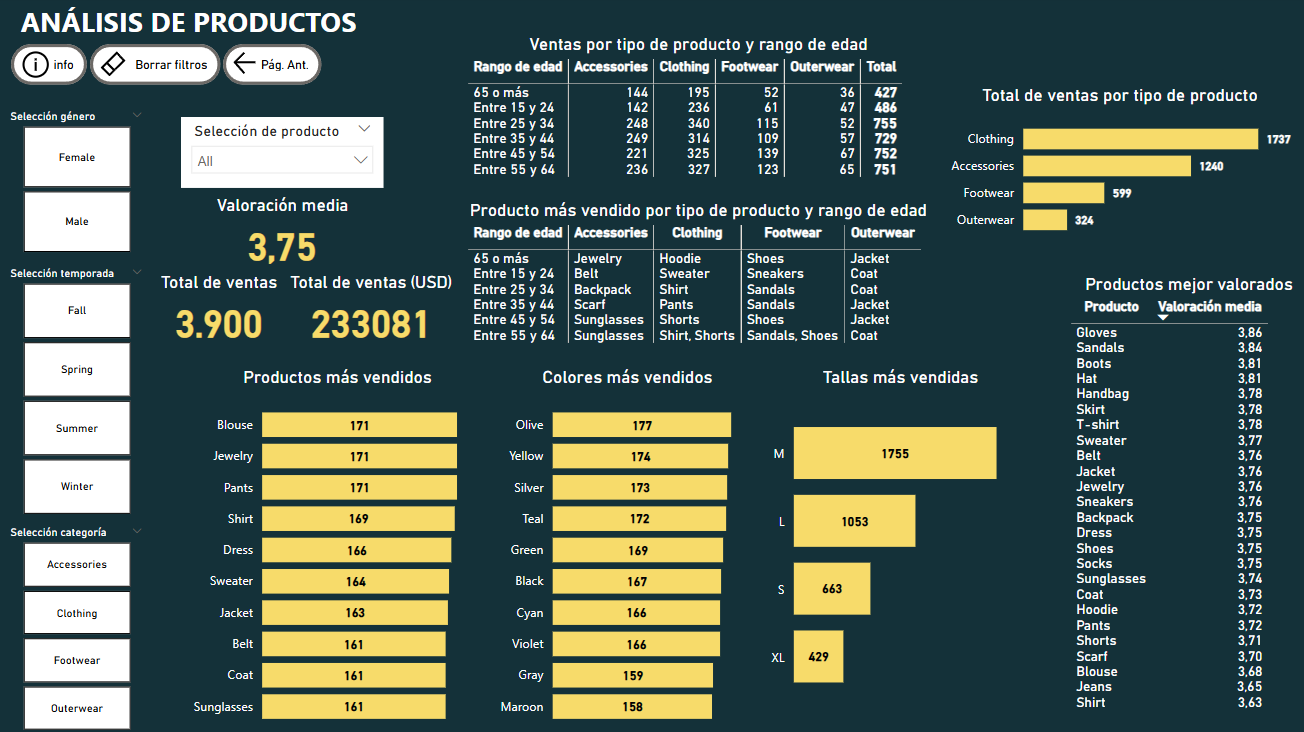

Layout of this report page (visuals, bound fields, positions):
{"tool":"powerbi","page":{"name":"Análisis de Productos","canvas":[1280,720],"ordinal":2},"visuals":[{"type":"slicer","fields":{"Values":["shopping_behavior_updated.Season"]},"box":[0,257.8,153.7,251.9],"z":0},{"type":"card","title":"Total de ventas (USD)","fields":{"Values":["Sum(shopping_behavior_updated.Purchase Amount (USD))"]},"box":[274.3,267.5,179,74.9],"z":1000},{"type":"card","title":"Total de ventas","fields":{"Values":["CountNonNull(shopping_behavior_updated.Customer ID)"]},"box":[153.7,267.5,124.5,74.9],"z":2000},{"type":"slicer","fields":{"Values":["shopping_behavior_updated.Category"]},"box":[0,509.7,153.7,210.1],"z":3000},{"type":"slicer","fields":{"Values":["shopping_behavior_updated.Gender"]},"box":[0,105,153.7,149.8],"z":4000},{"type":"barChart","title":"Total de ventas por tipo de producto","fields":{"Category":["shopping_behavior_updated.Category"],"Y":["CountNonNull(shopping_behavior_updated.Customer ID)"]},"box":[918.2,85.6,348.2,157.6],"z":5000},{"type":"textbox","box":[13.5,0,345.5,45.8],"z":6000},{"type":"actionButton","box":[13.5,45.8,73.9,39.5],"z":7000},{"type":"actionButton","box":[90.5,45.8,127,39.5],"z":8000},{"type":"actionButton","box":[219.6,45.8,95.7,39.5],"z":9000},{"type":"clusteredBarChart","title":"Productos más vendidos","fields":{"Category":["shopping_behavior_updated.Item Purchased"],"Y":["CountNonNull(shopping_behavior_updated.Customer ID)"]},"box":[181.9,359.9,298.6,359.9],"z":10000},{"type":"clusteredBarChart","title":"Tallas más vendidas","fields":{"Category":["shopping_behavior_updated.Size"],"Y":["CountNonNull(shopping_behavior_updated.Customer ID)"]},"box":[746,359.9,265.5,340.4],"z":11000},{"type":"clusteredBarChart","title":"Colores más vendidos","fields":{"Y":["CountNonNull(shopping_behavior_updated.Customer ID)"],"Category":["shopping_behavior_updated.Color"]},"box":[480.5,359.9,265.5,359.9],"z":12000},{"type":"slicer","fields":{"Values":["shopping_behavior_updated.Item Purchased"]},"box":[179,116.7,197.4,69.1],"z":13000},{"type":"tableEx","title":"Productos mejor valorados","fields":{"Values":["shopping_behavior_updated.Item Purchased","shopping_behavior_updated.Review Rating Medio"]},"box":[1038.8,269.4,241.2,430.9],"z":14000},{"type":"pivotTable","title":"Ventas por tipo de producto y rango de edad","fields":{"Rows":["shopping_behavior_updated.RangoEdad"],"Columns":["shopping_behavior_updated.Category"],"Values":["shopping_behavior_updated.Ventas Totales"]},"box":[453.3,36,458.1,149.8],"z":15000},{"type":"pivotTable","title":"Producto más vendido por tipo de producto y rango de edad","fields":{"Rows":["shopping_behavior_updated.RangoEdad"],"Columns":["shopping_behavior_updated.Category"],"Values":["shopping_behavior_updated.ProductoMasVendido"]},"box":[453.3,197.4,458.1,144.9],"z":16000},{"type":"card","title":"Valoración media","fields":{"Values":["shopping_behavior_updated.Review Rating Medio"]},"box":[193.6,192.6,168.3,74.9],"z":17000}]}

Visuals, with their boxes in screenshot pixels (x1, y1, x2, y2), scaled from the page's 1280x720 canvas onto the 1304x732 screenshot:
slicer - shopping_behavior_updated.Season: region(0, 262, 157, 518)
"Total de ventas (USD)" card: region(279, 272, 462, 348)
"Total de ventas" card: region(157, 272, 283, 348)
slicer - shopping_behavior_updated.Category: region(0, 518, 157, 731)
slicer - shopping_behavior_updated.Gender: region(0, 107, 157, 259)
"Total de ventas por tipo de producto" barChart: region(935, 87, 1290, 247)
textbox: region(14, 0, 366, 47)
actionButton: region(14, 47, 89, 87)
actionButton: region(92, 47, 222, 87)
actionButton: region(224, 47, 321, 87)
"Productos más vendidos" clusteredBarChart: region(185, 366, 490, 731)
"Tallas más vendidas" clusteredBarChart: region(760, 366, 1030, 712)
"Colores más vendidos" clusteredBarChart: region(490, 366, 760, 731)
slicer - shopping_behavior_updated.Item Purchased: region(182, 119, 383, 189)
"Productos mejor valorados" tableEx: region(1058, 274, 1303, 712)
"Ventas por tipo de producto y rango de edad" pivotTable: region(462, 37, 928, 189)
"Producto más vendido por tipo de producto y rango de edad" pivotTable: region(462, 201, 928, 348)
"Valoración media" card: region(197, 196, 369, 272)
